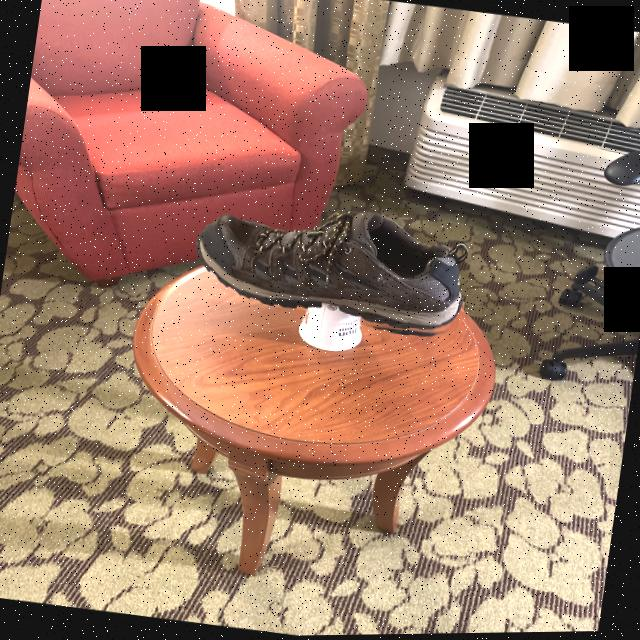shoe: (188, 190, 476, 348)
